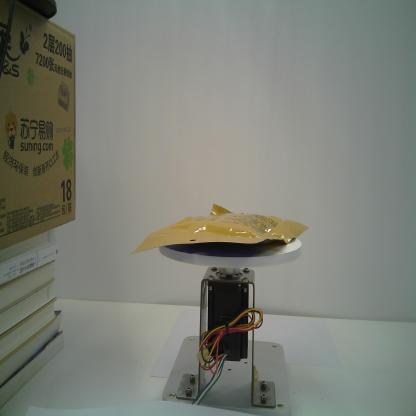Dried Fruit: (129, 202, 310, 254)
